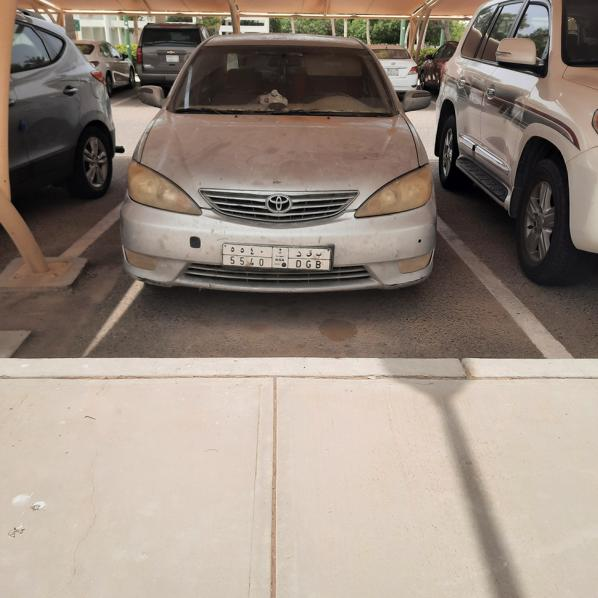numberplate: (222, 243, 332, 270)
